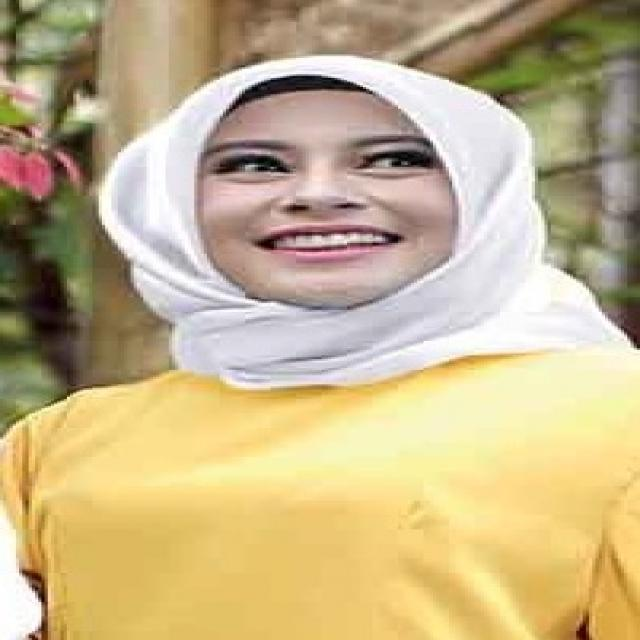head: (132, 56, 559, 323)
